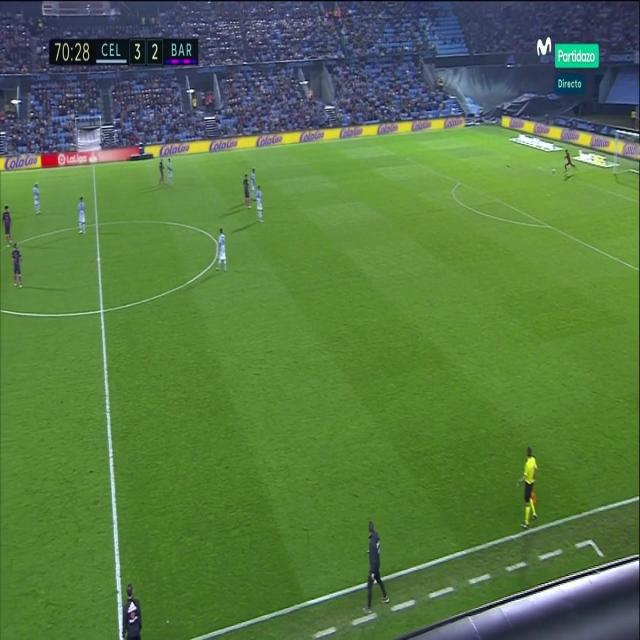Ball: (550, 166, 556, 176)
Goalkeeper: (562, 146, 578, 177)
Player: (214, 227, 228, 274), (1, 204, 14, 251), (11, 241, 24, 288), (75, 195, 88, 239), (31, 178, 44, 219), (255, 183, 266, 228), (242, 173, 252, 212), (165, 155, 176, 185), (250, 162, 257, 204), (157, 158, 165, 189)
Referee: (516, 443, 544, 527)
